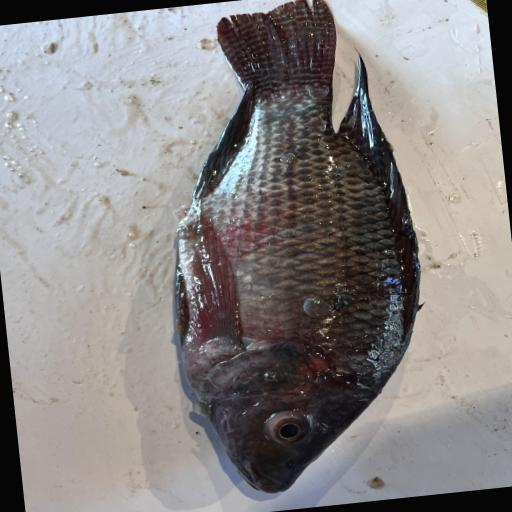Tilapia: (142, 0, 444, 503)
